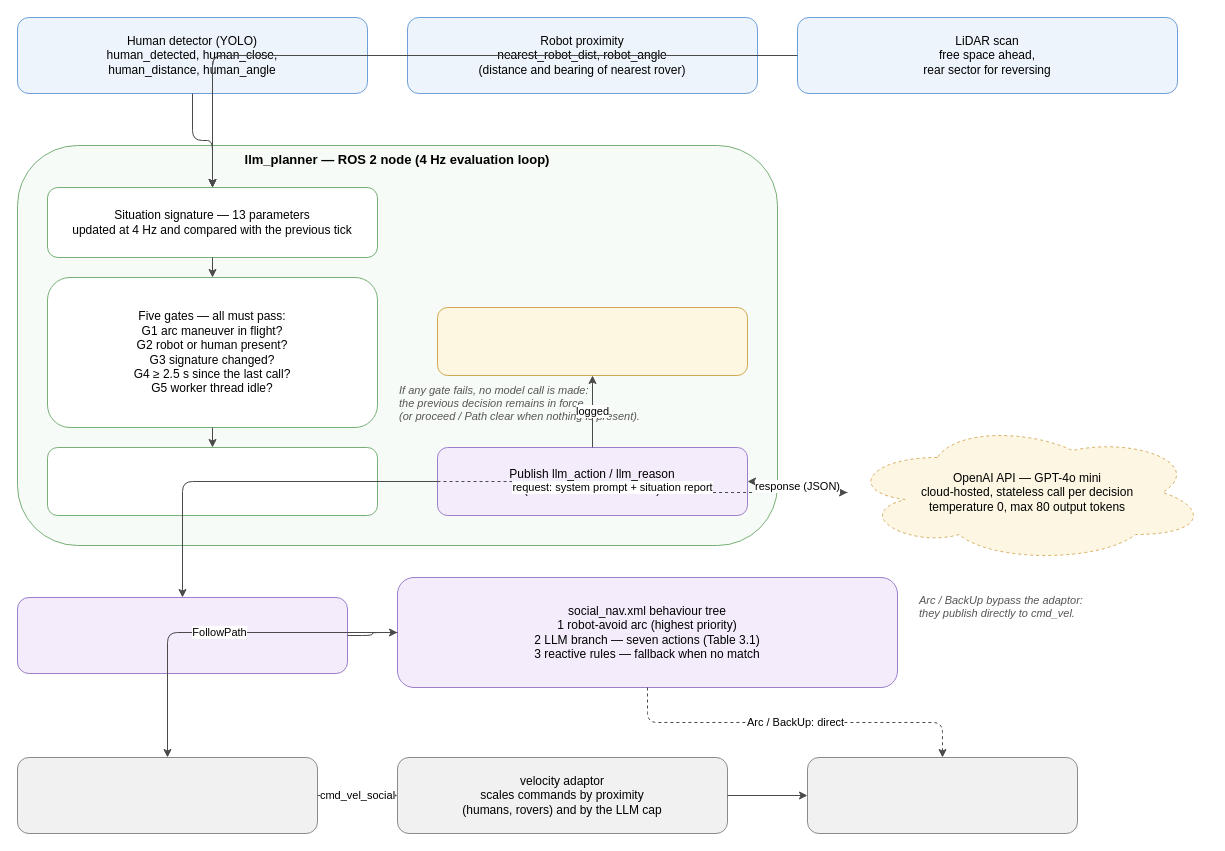
The diagram is 1225 pixels wide and 851 high, and some of its shapes have lost their labels. Each missing label, with the centre of its shape:
"API request in worker thread (non-blocking; one call at a time)" goes at point 212,481.
"CheckLlmAction → blackboard action + reason stored for the tree" goes at point 182,635.
"cmd_vel rover wheels" goes at point 942,795.
"Decision log (CSV) action, reason, tokens, cost" goes at point 592,341.
"DWB controller (via FollowPath) publishes cmd_vel_social" goes at point 167,795.
